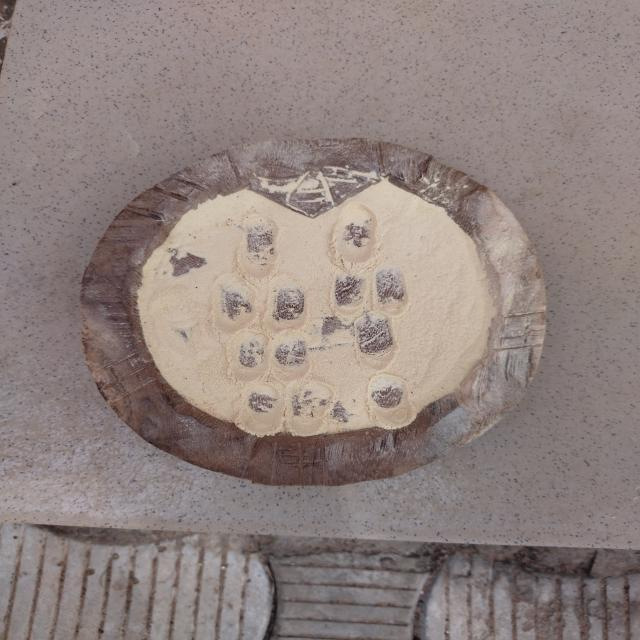double: (215, 277, 308, 333), (221, 332, 316, 382), (236, 383, 326, 434), (330, 270, 412, 316)
single: (328, 201, 382, 269), (236, 210, 282, 282), (364, 374, 420, 429), (350, 314, 400, 369)
